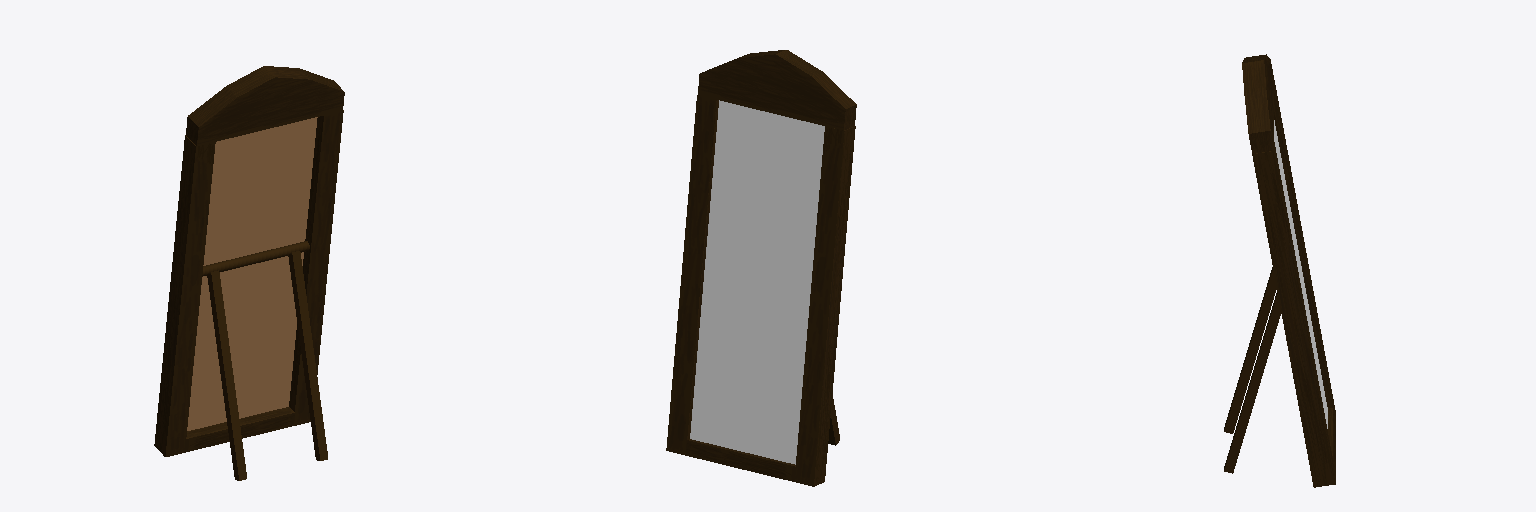
3 renders of one model, left to right at view 1: azimuth 30°, elevation 25°; view 2: azimuth 150°, elevation 25°; view 3: azimuth 270°, elevation 25°, orthographic.
Visible parts, largest first — view 1: Cube.002; view 2: Cube.002; view 3: Cube.002.
Boxes of the visible parts, x1=… form: Cube.002: x1=154, y1=66, x2=344, y2=480; Cube.002: x1=666, y1=50, x2=856, y2=486; Cube.002: x1=1224, y1=54, x2=1335, y2=487.
Bounding box in the file's own units: 3 × 7.6 × 1.97.
2 materials, 1 textured.